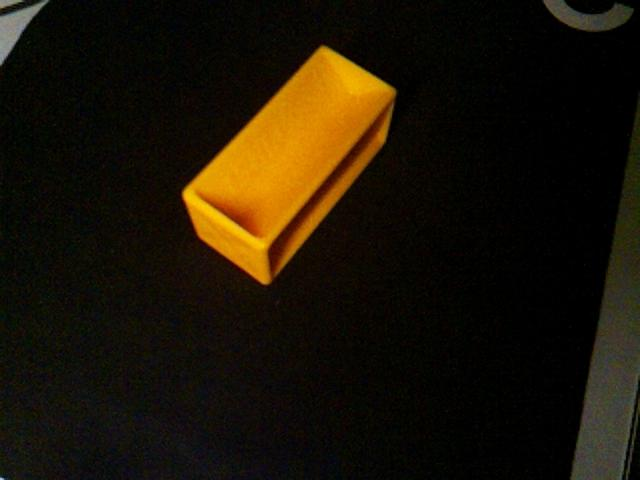yellow: (181, 43, 398, 287)
